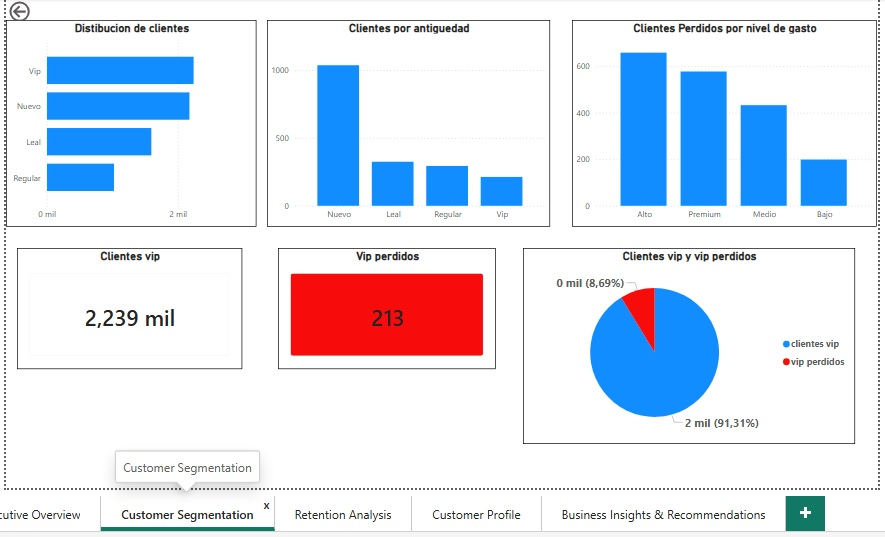

The dashboard page shown, as its layout file describes it:
{"tool":"powerbi","page":{"name":"Customer Segmentation","canvas":[1280,720],"ordinal":1},"visuals":[{"type":"clusteredColumnChart","title":"Clientes por antiguedad","fields":{"Category":["churn_limpio.Grupo_antig"],"Y":["Medidas.Clientes Perdidos"]},"box":[384,32,416,304],"z":0},{"type":"actionButton","box":[0,0,100,40],"z":1000},{"type":"clusteredColumnChart","title":"Clientes Perdidos por nivel de gasto","fields":{"Category":["churn_limpio.Nivel_gasto"],"Y":["Medidas.Clientes Perdidos"]},"box":[832,32,448,304],"z":2000},{"type":"clusteredBarChart","title":"Distibucion de clientes","fields":{"Category":["churn_limpio.Grupo_antig"],"Y":["CountNonNull(churn_limpio.customerID)"]},"box":[0,32,368,304],"z":3000},{"type":"cardVisual","title":"Clientes vip","fields":{"Data":["Medidas.clientes vip"]},"box":[16.2,367.3,330.6,177.8],"z":4000},{"type":"cardVisual","title":"Vip perdidos","fields":{"Data":["Medidas.vip perdidos"]},"box":[399.7,367.3,320.3,177.8],"z":5000},{"type":"pieChart","title":"Clientes vip y vip perdidos","fields":{"Y":["Medidas.clientes vip","Medidas.vip perdidos"]},"box":[759.7,367.3,487.8,288],"z":6000}]}

Visuals, with their boxes in screenshot pixels (x1, y1, x2, y2):
"Clientes por antiguedad" clusteredColumnChart: 264:17:548:224
actionButton: 2:0:70:23
"Clientes Perdidos por nivel de gasto" clusteredColumnChart: 570:17:875:224
"Distibucion de clientes" clusteredBarChart: 2:17:253:224
"Clientes vip" cardVisual: 13:246:239:367
"Vip perdidos" cardVisual: 275:246:493:367
"Clientes vip y vip perdidos" pieChart: 520:246:853:442
